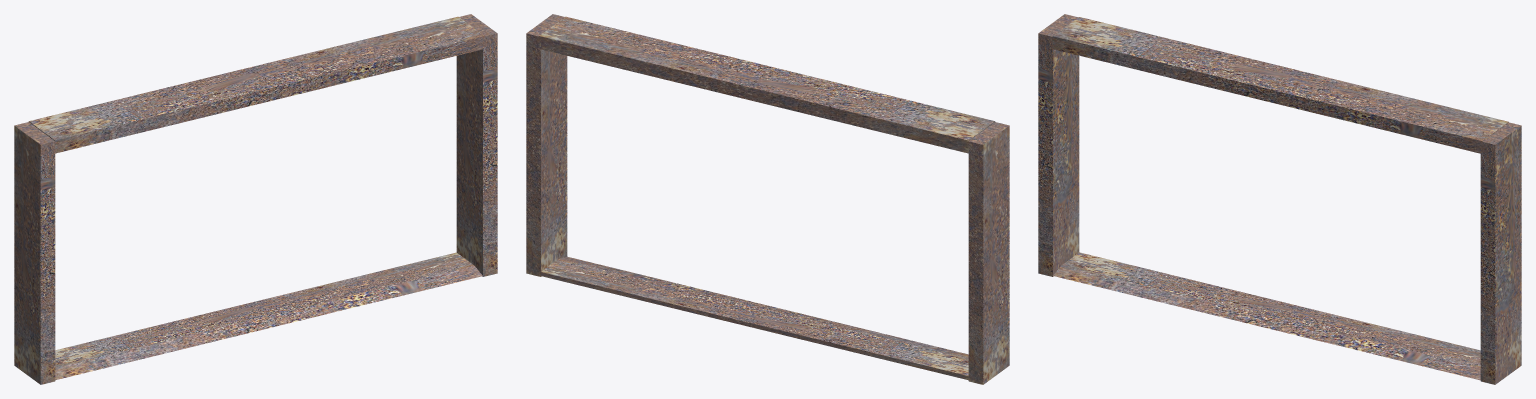
The model's file is Good frame.dae.
The picture shows the model from 3 angles, left to right: view 1: azimuth 30°, elevation 25°; view 2: azimuth 150°, elevation 25°; view 3: azimuth 330°, elevation 25°; orthographic projection.
Parts seen in each view (by area): view 1: Cube2-0; view 2: Cube2-0; view 3: Cube2-0.
Part boxes in pixels (<box>): Cube2-0: <box>14,14,497,384</box>; Cube2-0: <box>526,14,1009,384</box>; Cube2-0: <box>1038,14,1521,384</box>.
Bounding box in the file's own units: 4.97 × 2.5 × 0.5003.
